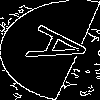A: (25, 25, 100, 71)
